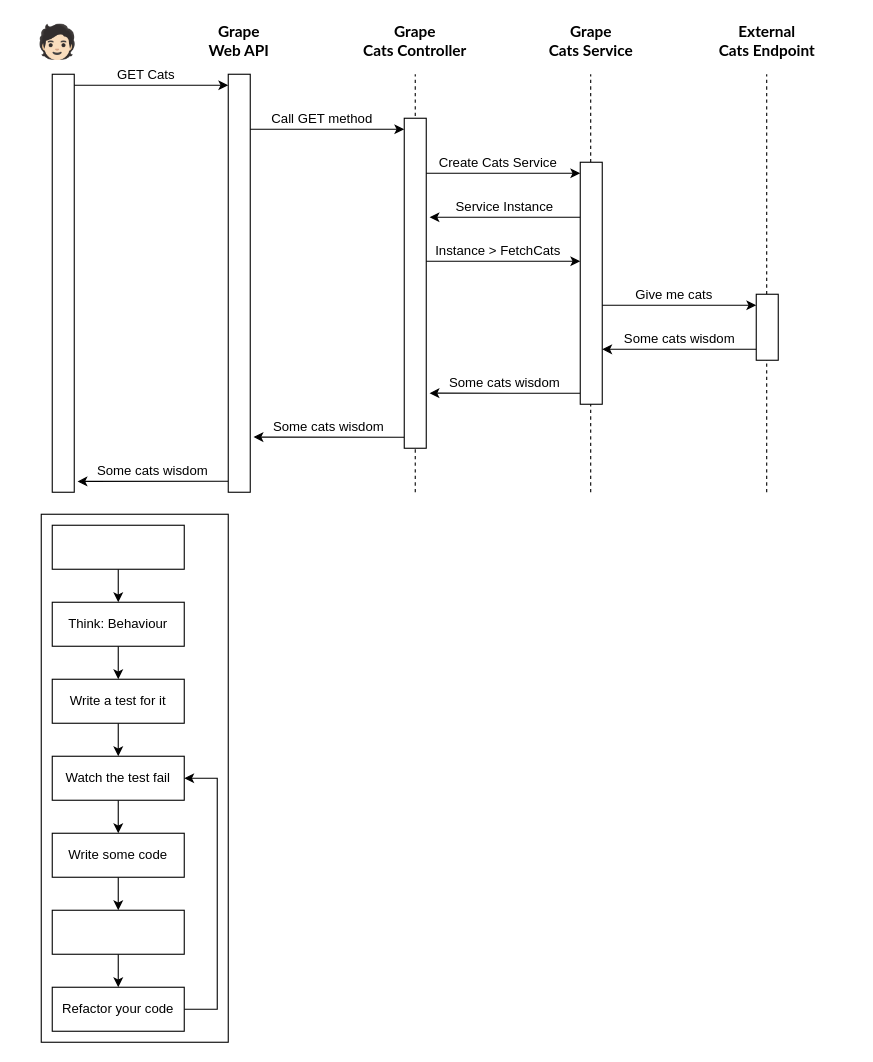
Image size: 873x1062. Some labels were removed from this diagram. The box of each missing label's shape, as (x1, y1, x2, y2) in pixels:
Create your empty method: (51, 524, 184, 569)
Watch the test pass: (51, 909, 184, 954)
